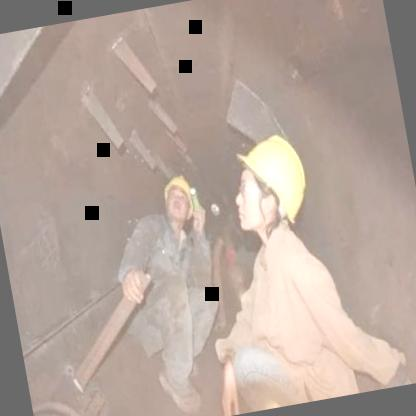helmet: (223, 119, 319, 250), (158, 168, 200, 234)
